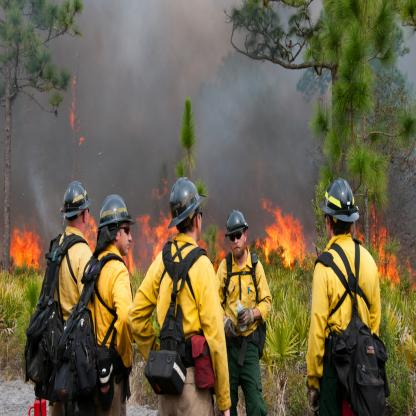Helmet: (165, 183, 207, 240), (95, 192, 136, 244), (325, 178, 357, 223), (57, 181, 91, 223), (222, 212, 248, 244)
